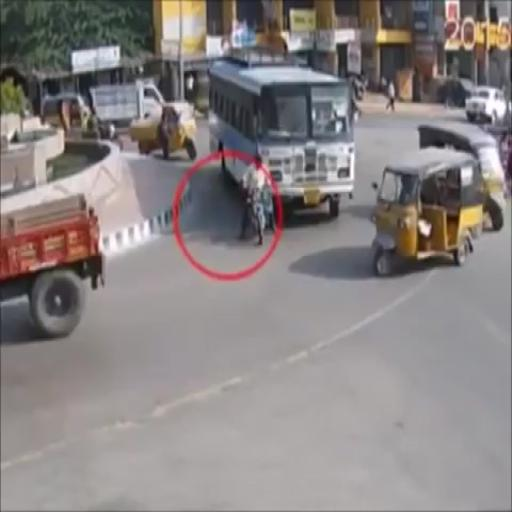小汽车: (210, 61, 354, 212), (368, 152, 485, 270), (126, 98, 204, 166)
自行车: (246, 154, 276, 241)
